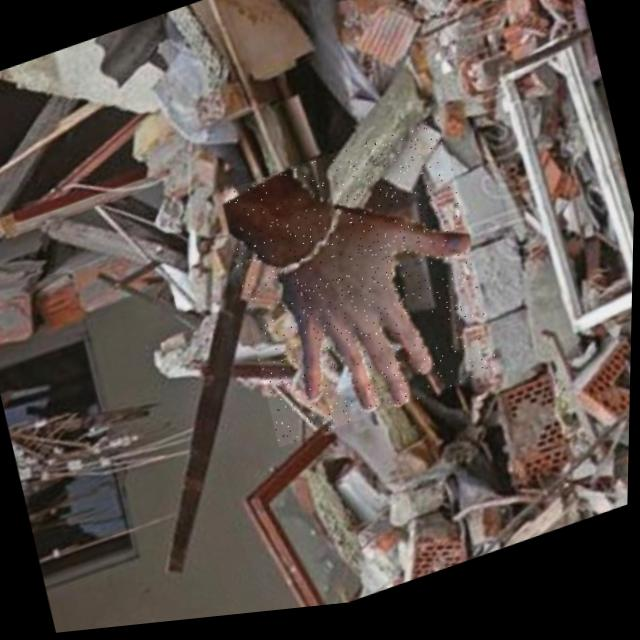Person in Rubble: (216, 117, 506, 458)
